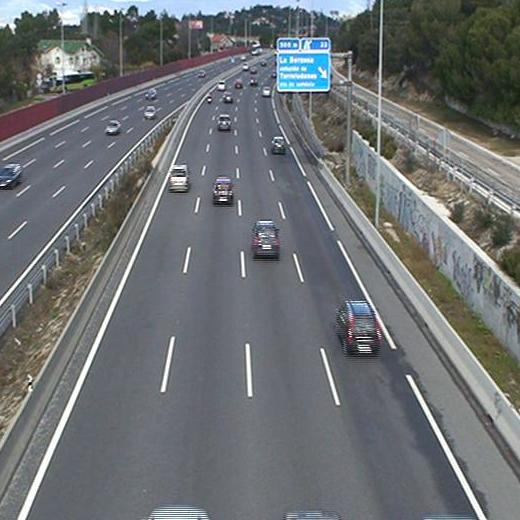car: (332, 296, 384, 361), (247, 216, 284, 262), (207, 174, 238, 209), (163, 161, 192, 197), (269, 135, 289, 158), (215, 113, 235, 135), (222, 90, 236, 105)
motorcycle: (204, 90, 214, 108)
